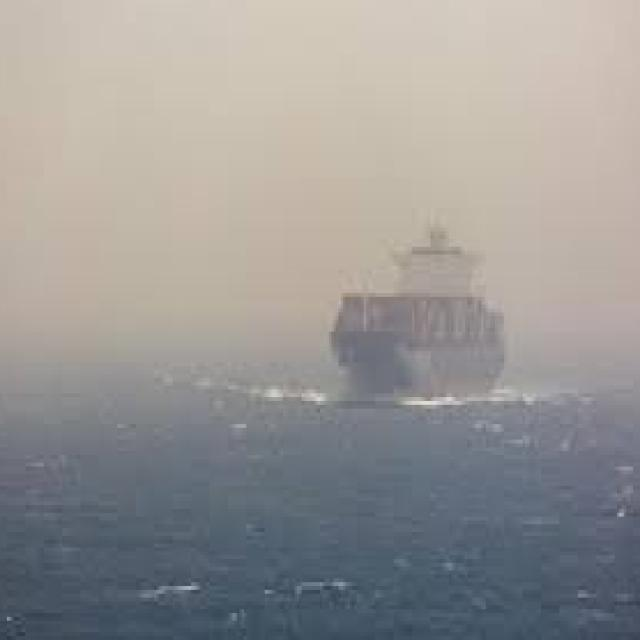cargoship: (325, 204, 535, 412)
